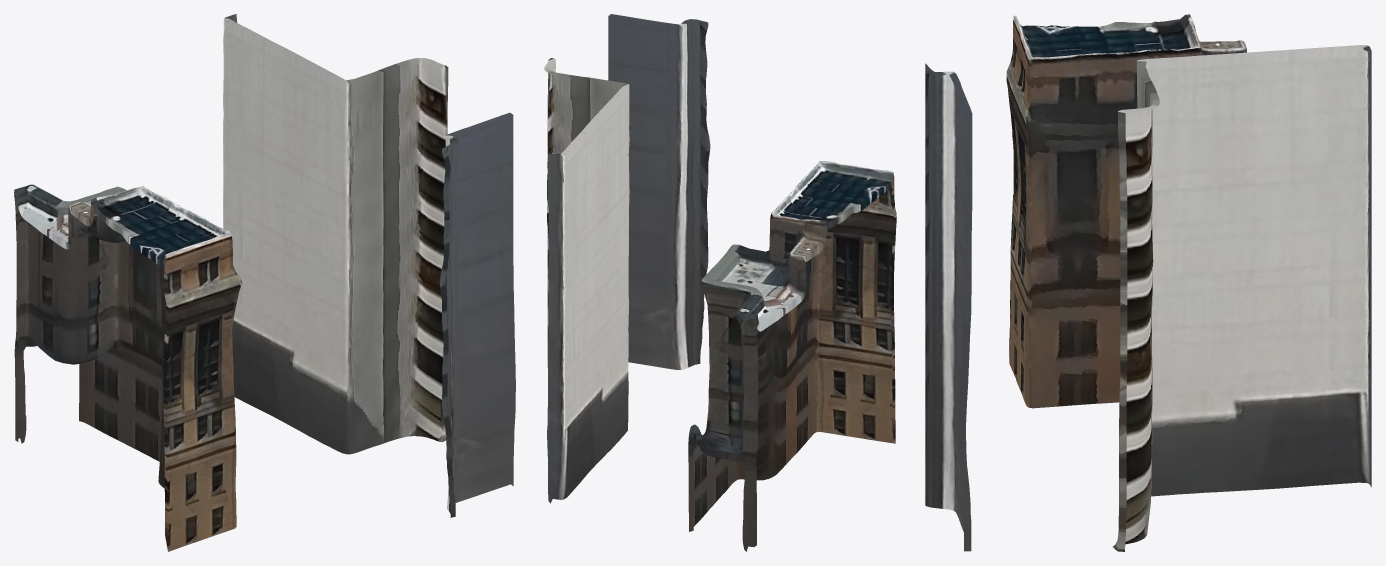
Rendered from z20-167770-405234-h1-yup-uvflip-v3-world.glb.
3 views of the same model, side by side, from view 1: azimuth 30°, elevation 25°; view 2: azimuth 150°, elevation 25°; view 3: azimuth 270°, elevation 25° (orthographic). The views are drawn at different scales.
Bounding box in the file's own units: 30.2 × 33.36 × 30.32.
Materials: 1 (1 with a texture image).
